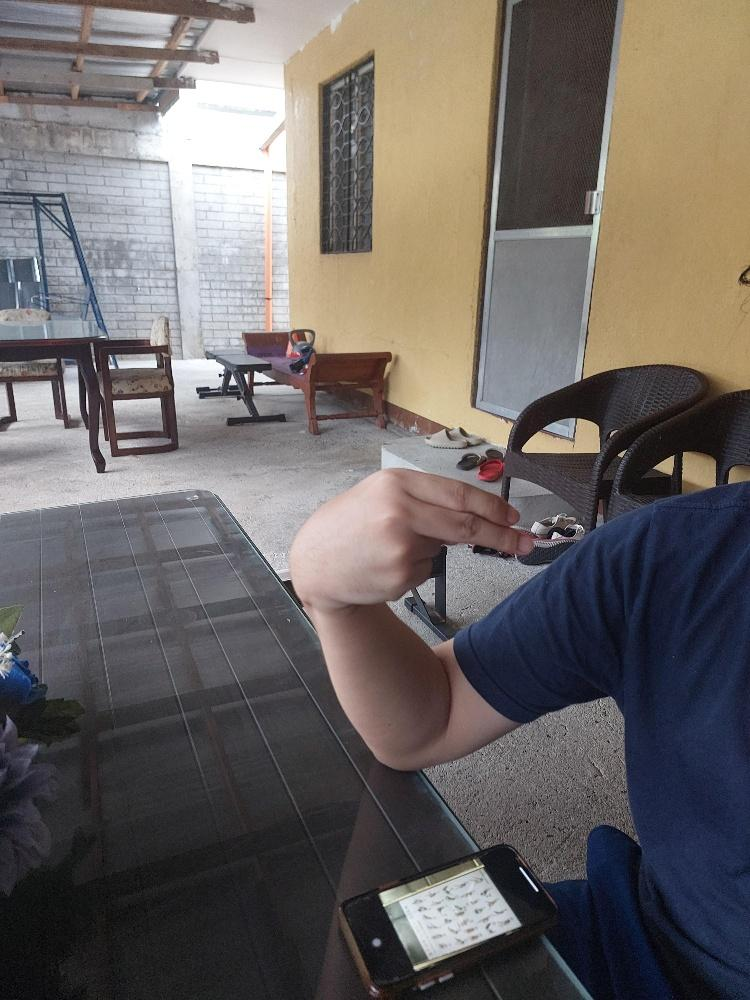h: (285, 462, 535, 606)
